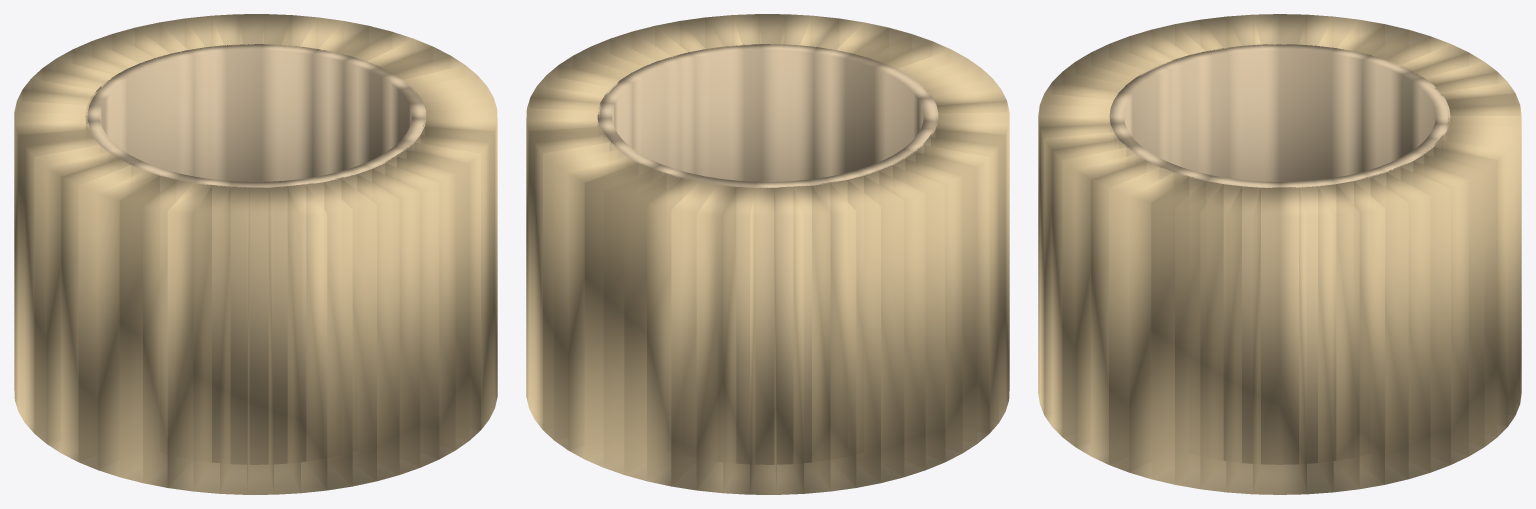
Rendered from tape_roll.glb.
The picture shows the model from 3 angles, left to right: view 1: azimuth 30°, elevation 25°; view 2: azimuth 150°, elevation 25°; view 3: azimuth 270°, elevation 25°; orthographic projection.
Visible parts, largest first — view 1: tape_roll_body, tape_roll_core; view 2: tape_roll_body, tape_roll_core; view 3: tape_roll_body, tape_roll_core.
Boxes of the visible parts, box(x1,y1,x2,y2) form: tape_roll_body: box(14, 14, 497, 494); tape_roll_core: box(85, 44, 426, 464); tape_roll_body: box(526, 14, 1009, 494); tape_roll_core: box(597, 44, 938, 464); tape_roll_body: box(1038, 14, 1521, 494); tape_roll_core: box(1109, 44, 1450, 464).
Bounding box in the file's own units: 0.076 × 0.048 × 0.076.
